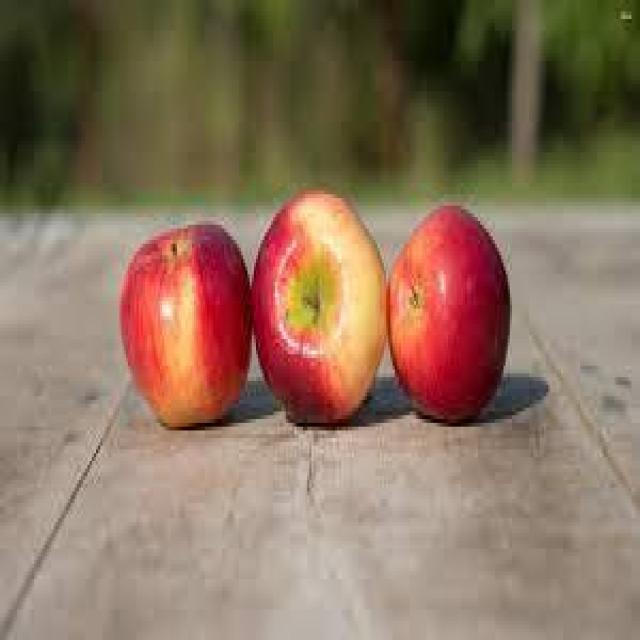maca: (250, 187, 386, 423), (117, 217, 252, 427), (386, 202, 510, 423)
